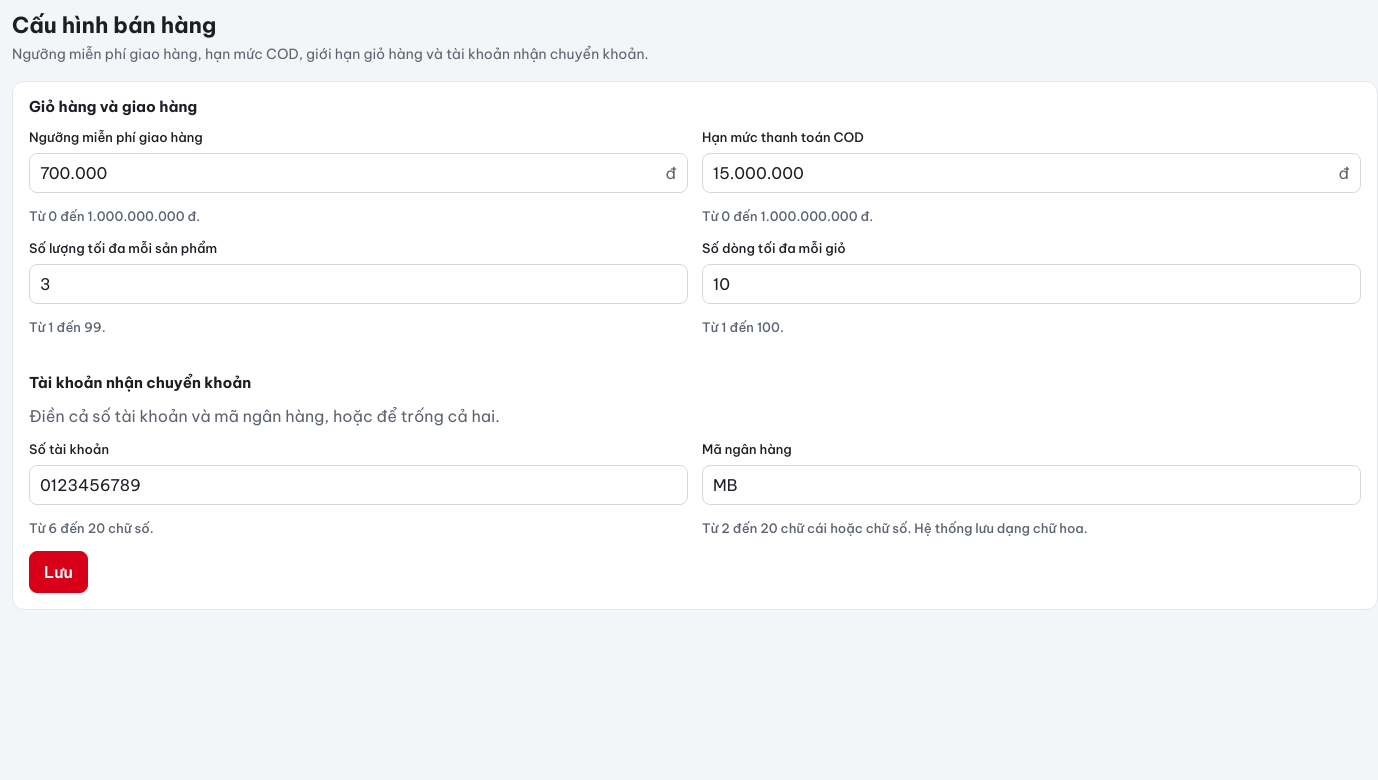
it: CommerceSettingsPage: lưu › lỗi 400 của cặp SePay hiện dưới ô còn thiếu
Step 1. Click the submit button → (58, 572), box [29,550,88,592]
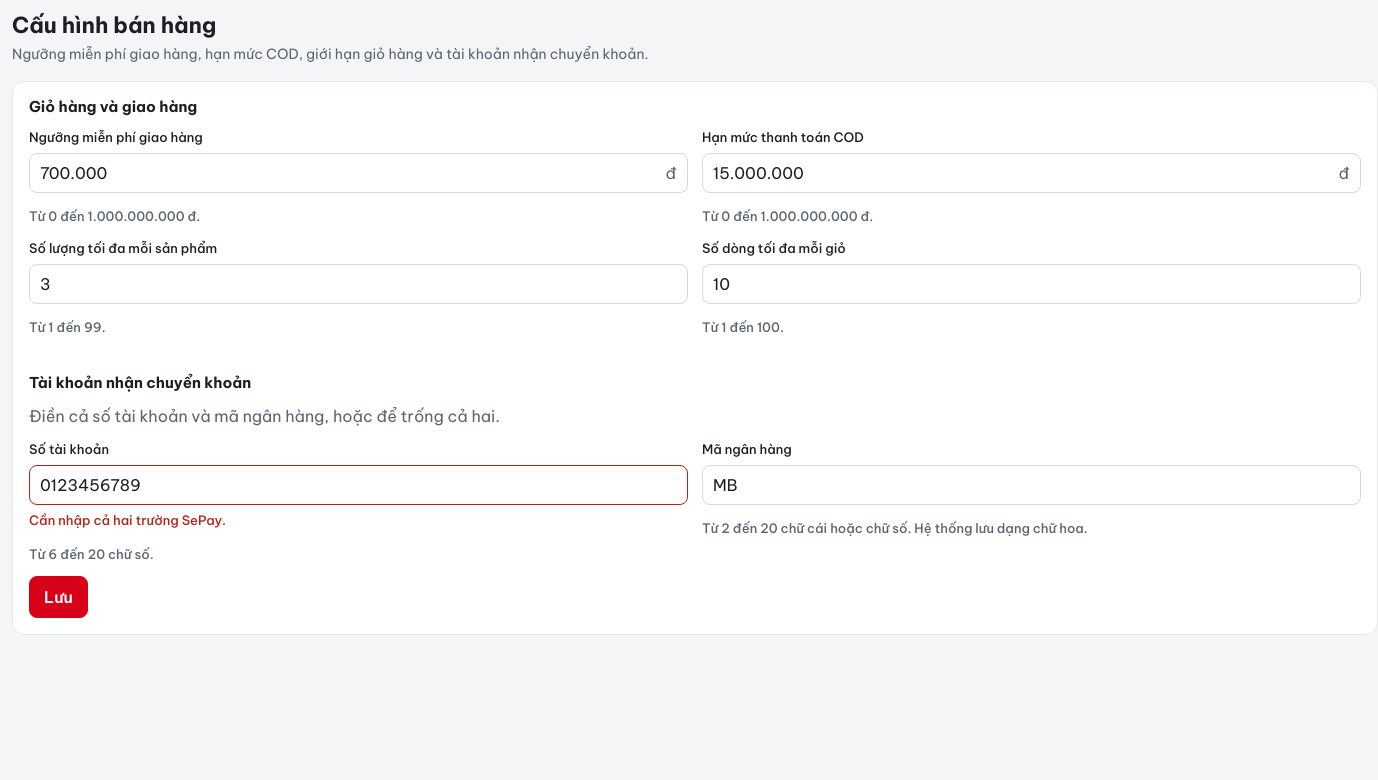
Expected: the text "Cần nhập cả hai trường SePay." is shown, [29,512,226,528]
